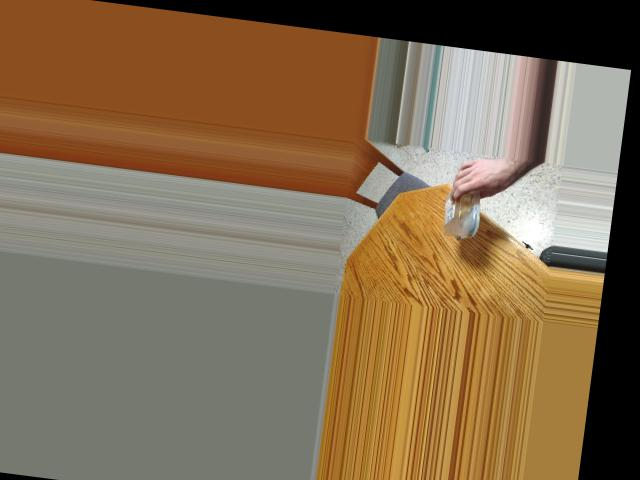cheese: (431, 174, 497, 247)
